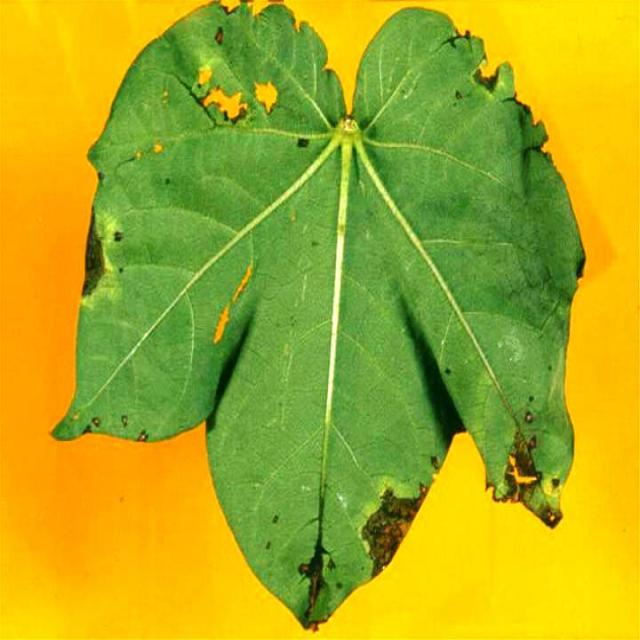Bacterial Blight: (358, 412, 568, 556)
